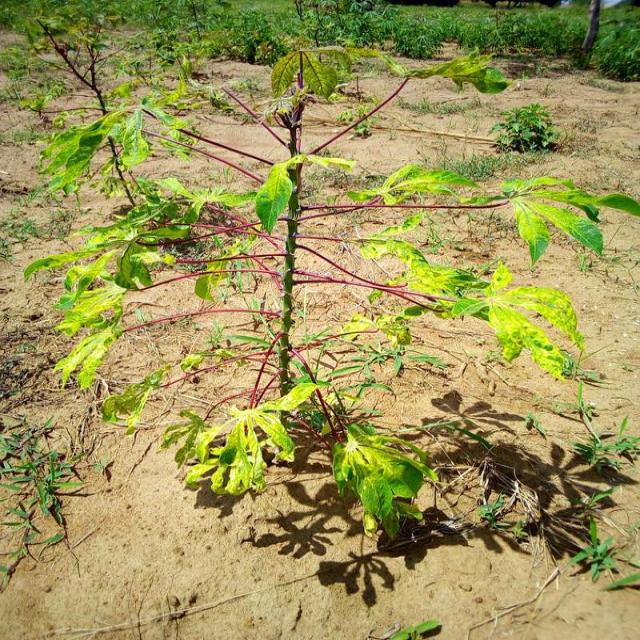cassava leaf: (331, 419, 438, 539)
